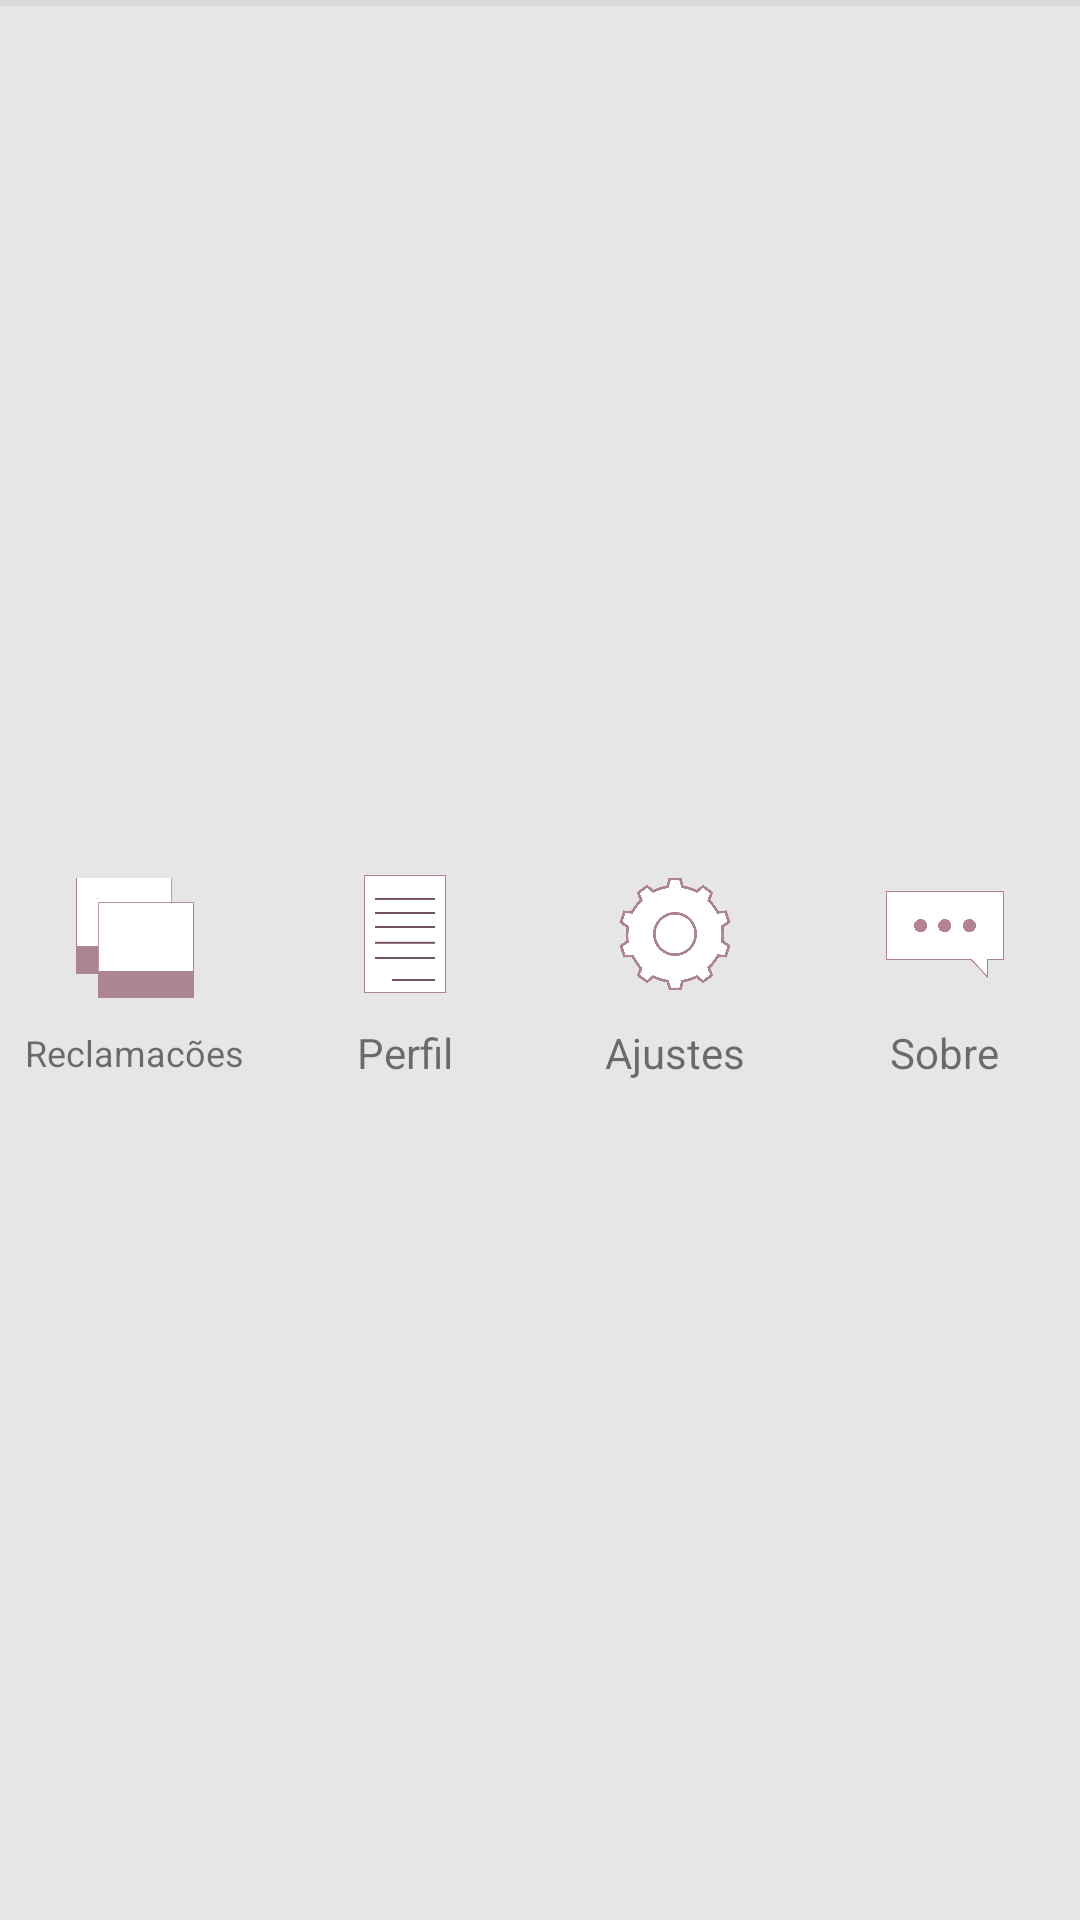

Point at icon controls on the screen. Image size 1080px×1920px, points as (x,y).
anuncios off: (135,938)
